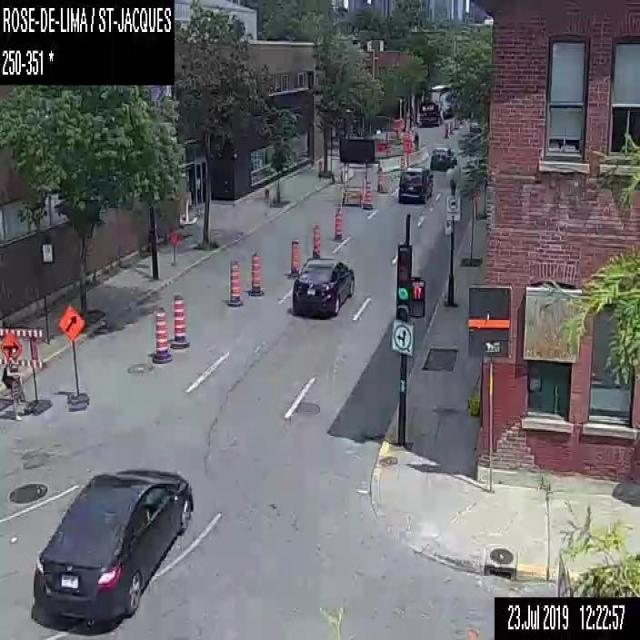construction: (56, 300, 86, 405), (337, 136, 379, 209), (0, 325, 44, 367), (150, 303, 171, 364), (170, 290, 190, 352), (224, 257, 243, 307), (247, 250, 264, 298), (289, 236, 299, 276), (310, 222, 319, 258), (362, 178, 372, 206), (332, 210, 342, 238), (402, 136, 411, 167), (376, 165, 386, 192), (168, 230, 176, 247), (262, 185, 268, 206), (317, 160, 322, 179), (443, 120, 448, 138), (449, 116, 453, 134), (400, 156, 404, 172)
pedestrian: (0, 343, 26, 421)
vehicle: (32, 468, 192, 632), (291, 256, 354, 319), (396, 166, 429, 204), (429, 144, 454, 171)
